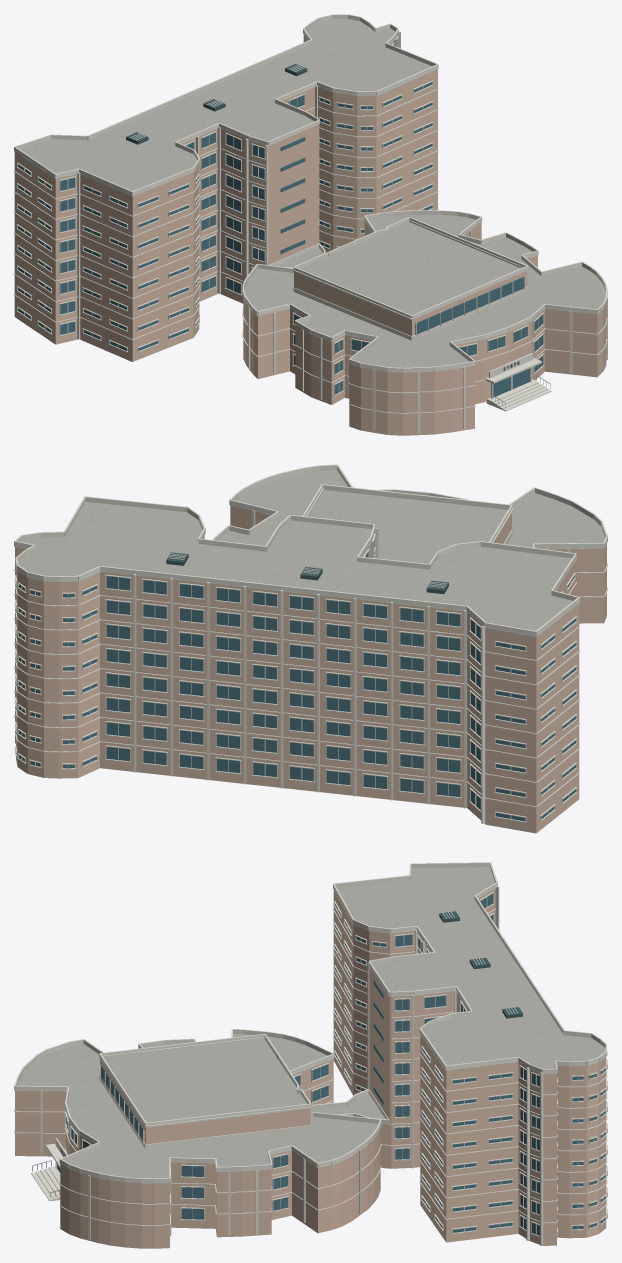
Rendered from teaching-ten.glb.
The picture shows the model from 3 angles, top to bottom: view 1: azimuth 30°, elevation 25°; view 2: azimuth 150°, elevation 25°; view 3: azimuth 270°, elevation 25°; orthographic projection. The views are drawn at different scales.
Visible parts, largest first — view 1: landmark-teaching-ten; view 2: landmark-teaching-ten; view 3: landmark-teaching-ten.
Boxes of the visible parts, x1,y1,x2,y2 form: landmark-teaching-ten: (14,14,607,435); landmark-teaching-ten: (14,464,607,833); landmark-teaching-ten: (14,862,607,1248).
Bounding box in the file's own units: 69.87 × 27.34 × 83.3.
Materials: 7 (2 with a texture image).
